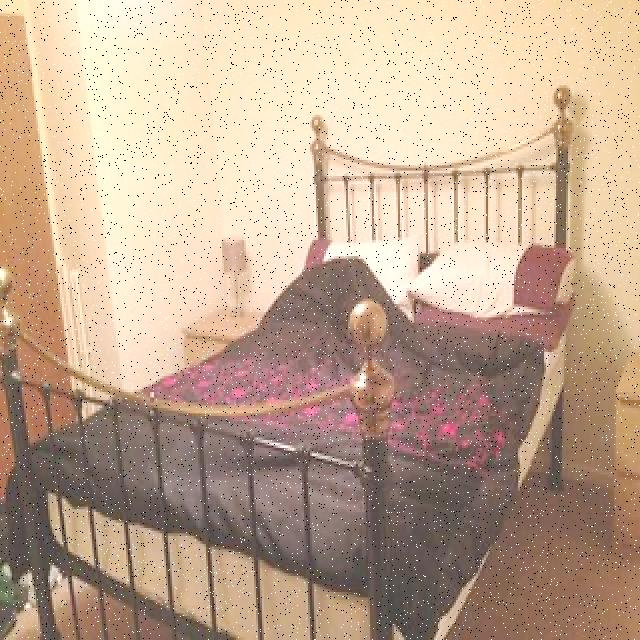bed: (4, 238, 578, 640)
